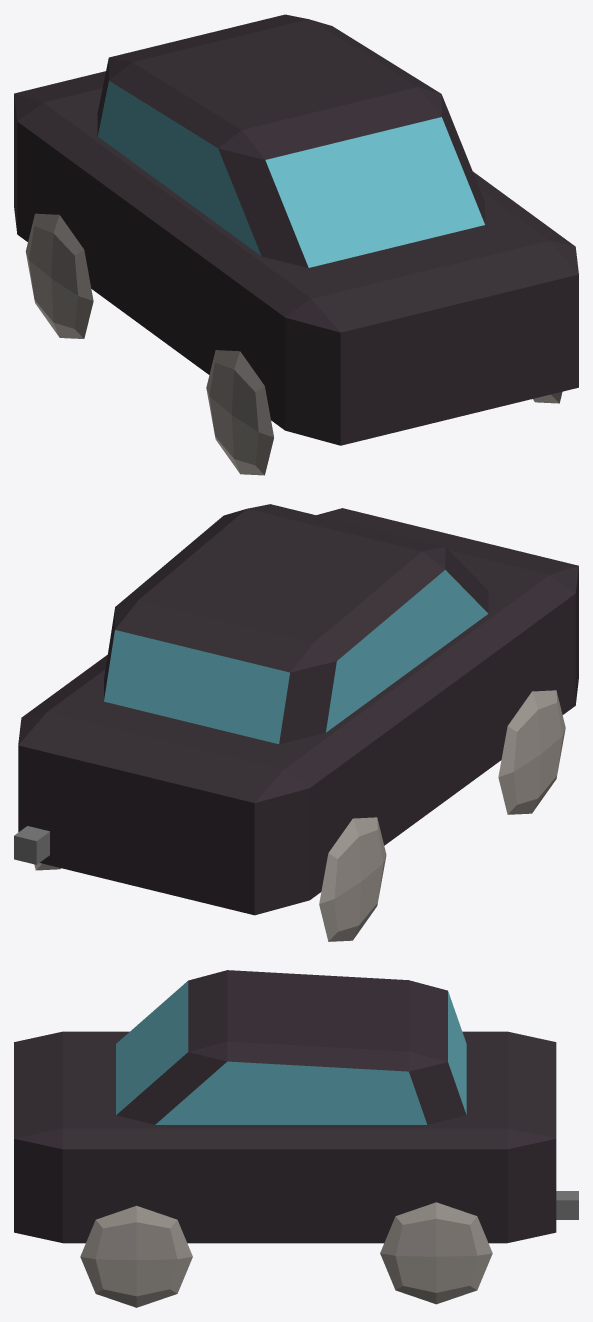
Rendered from Auto1.fbx.
3 views of the same model, one above another, from view 1: azimuth 30°, elevation 25°; view 2: azimuth 150°, elevation 25°; view 3: azimuth 270°, elevation 25° (orthographic). The views are drawn at different scales.
Parts seen in each view (by area): view 1: Cube, Cube.005, Cube.003, Cube.004; view 2: Cube, Cube.005, Cube.003, Cube.004, Cube.006; view 3: Cube, Cube.005, Cube.002, Cube.001, Cube.006.
Boxes of the visible parts, bbox=[...] form: Cube: bbox=[14, 71, 578, 445]; Cube.005: bbox=[97, 14, 485, 267]; Cube.003: bbox=[25, 213, 93, 338]; Cube.004: bbox=[206, 350, 273, 475]; Cube: bbox=[18, 508, 578, 915]; Cube.005: bbox=[104, 504, 488, 744]; Cube.003: bbox=[319, 817, 386, 941]; Cube.004: bbox=[498, 690, 565, 814]; Cube.006: bbox=[14, 826, 49, 864]; Cube: bbox=[14, 1031, 556, 1243]; Cube.005: bbox=[116, 970, 466, 1124]; Cube.002: bbox=[380, 1202, 492, 1304]; Cube.001: bbox=[80, 1205, 192, 1307]; Cube.006: bbox=[556, 1191, 578, 1219].
Size of the model in its own units: 213 by 190 by 403.
